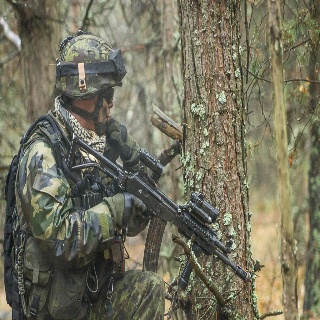rifle: (66, 135, 252, 284)
